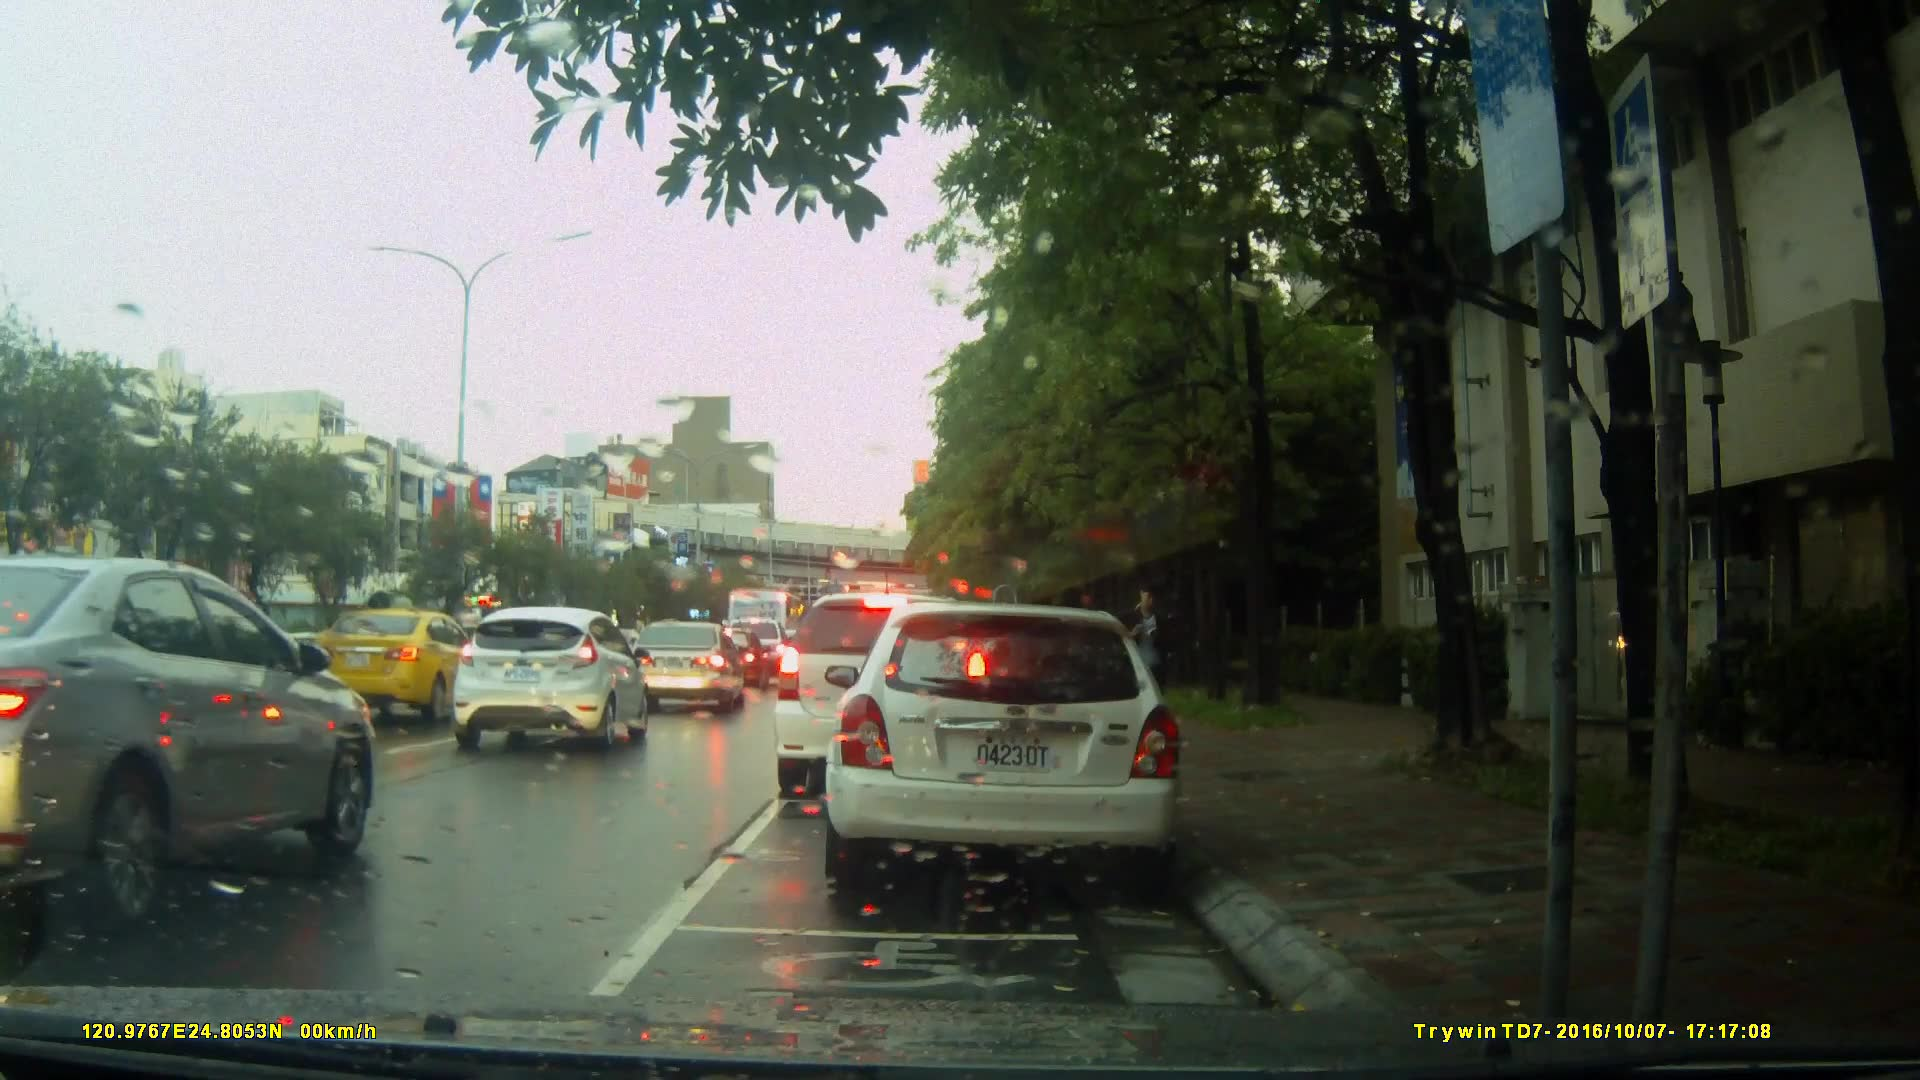vehicle: (1, 553, 378, 939), (835, 593, 1193, 898), (775, 589, 1026, 785), (450, 607, 654, 752), (305, 607, 492, 728), (628, 620, 749, 723), (717, 589, 818, 684), (699, 628, 767, 690)
